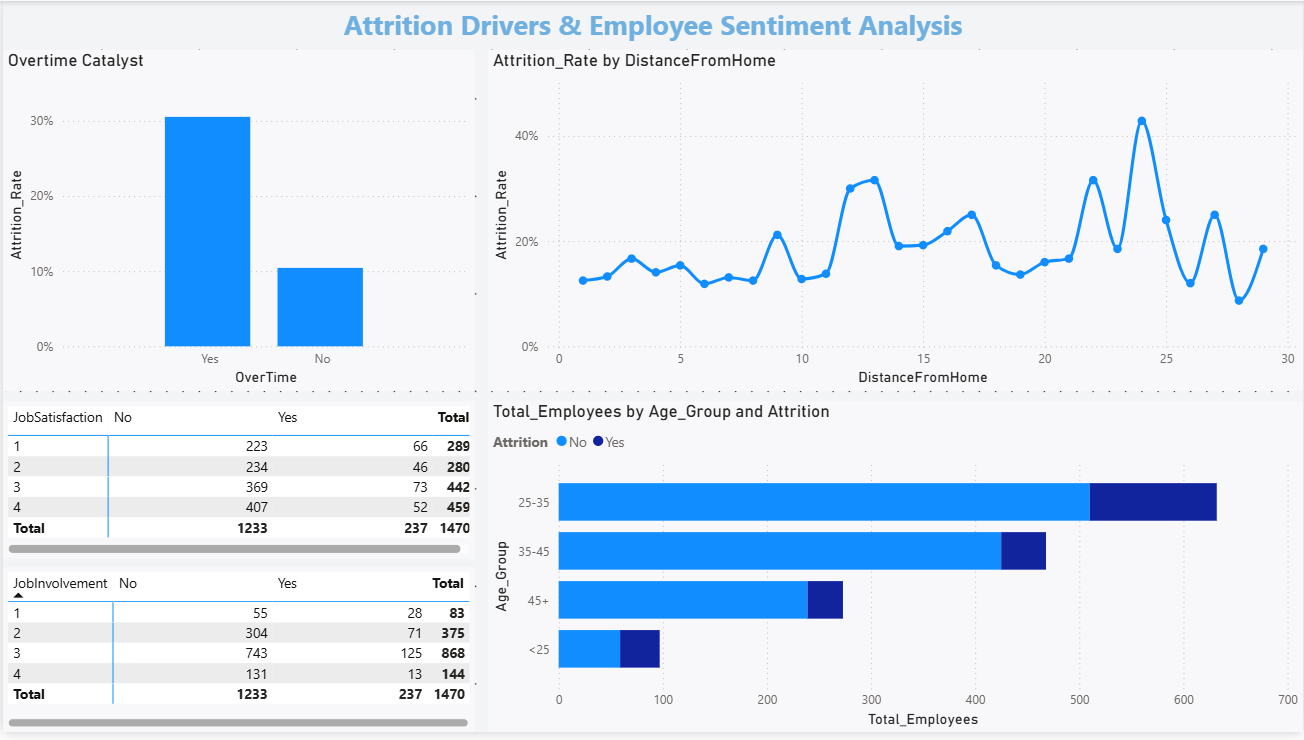

The dashboard page shown, as its layout file describes it:
{"tool":"powerbi","page":{"name":"Sentiment & Attrition Drivers","canvas":[1280,720],"ordinal":1},"visuals":[{"type":"textbox","box":[0,0,1280,47.1],"z":0},{"type":"clusteredColumnChart","title":"Overtime Catalyst","fields":{"Category":["IBM-HR-Employee-Attrition.OverTime"],"Y":["Measure_Table.Attrition_Rate"]},"box":[0,48,464,336],"z":1000},{"type":"lineChart","fields":{"Category":["IBM-HR-Employee-Attrition.DistanceFromHome"],"Y":["Measure_Table.Attrition_Rate"]},"box":[477.5,48,802.5,336],"z":2000},{"type":"barChart","fields":{"Category":["IBM-HR-Employee-Attrition.Age_Group"],"Series":["IBM-HR-Employee-Attrition.Attrition"],"Y":["Measure_Table.Total_Employees"]},"box":[477.5,393.8,802.5,326.2],"z":3000},{"type":"pivotTable","fields":{"Columns":["IBM-HR-Employee-Attrition.Attrition"],"Rows":["IBM-HR-Employee-Attrition.JobSatisfaction"],"Values":["Measure_Table.Total_Employees"]},"box":[0,393.8,464,155.1],"z":4000},{"type":"pivotTable","fields":{"Columns":["IBM-HR-Employee-Attrition.Attrition"],"Rows":["IBM-HR-Employee-Attrition.JobInvolvement"],"Values":["Measure_Table.Total_Employees"]},"box":[0,557.5,464,162.5],"z":5000}]}

Visuals, with their boxes in screenshot pixels (x1, y1, x2, y2), scaled from the page's 1280x720 canvas onto the 1304x740 screenshot:
textbox: <bbox>0, 0, 1303, 48</bbox>
"Overtime Catalyst" clusteredColumnChart: <bbox>0, 49, 473, 395</bbox>
lineChart - IBM-HR-Employee-Attrition.DistanceFromHome x Measure_Table.Attrition_Rate: <bbox>486, 49, 1303, 395</bbox>
barChart - IBM-HR-Employee-Attrition.Age_Group x IBM-HR-Employee-Attrition.Attrition: <bbox>486, 405, 1303, 739</bbox>
pivotTable - IBM-HR-Employee-Attrition.Attrition x IBM-HR-Employee-Attrition.JobSatisfaction: <bbox>0, 405, 473, 564</bbox>
pivotTable - IBM-HR-Employee-Attrition.Attrition x IBM-HR-Employee-Attrition.JobInvolvement: <bbox>0, 573, 473, 739</bbox>
